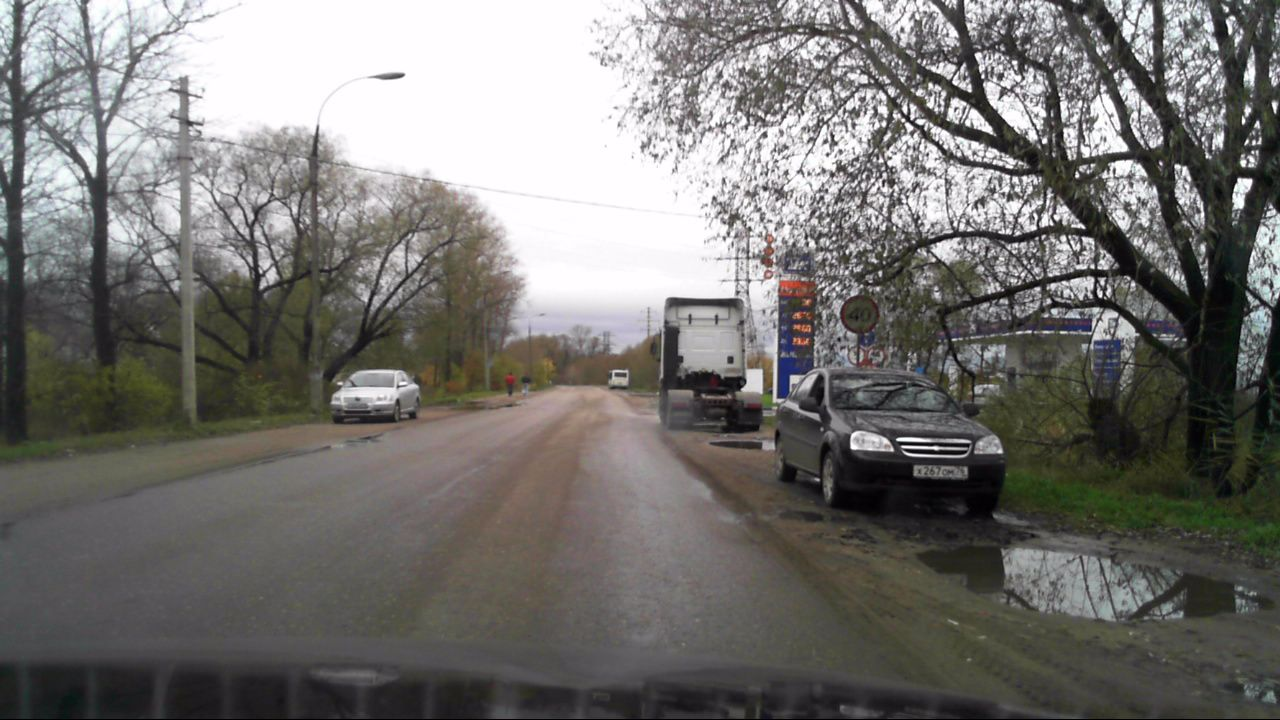speed_warning_40: (838, 295, 879, 336)
